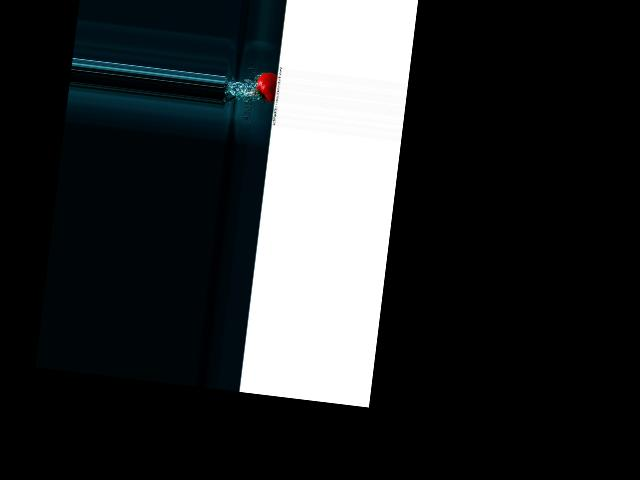tomato: (254, 71, 277, 103)
